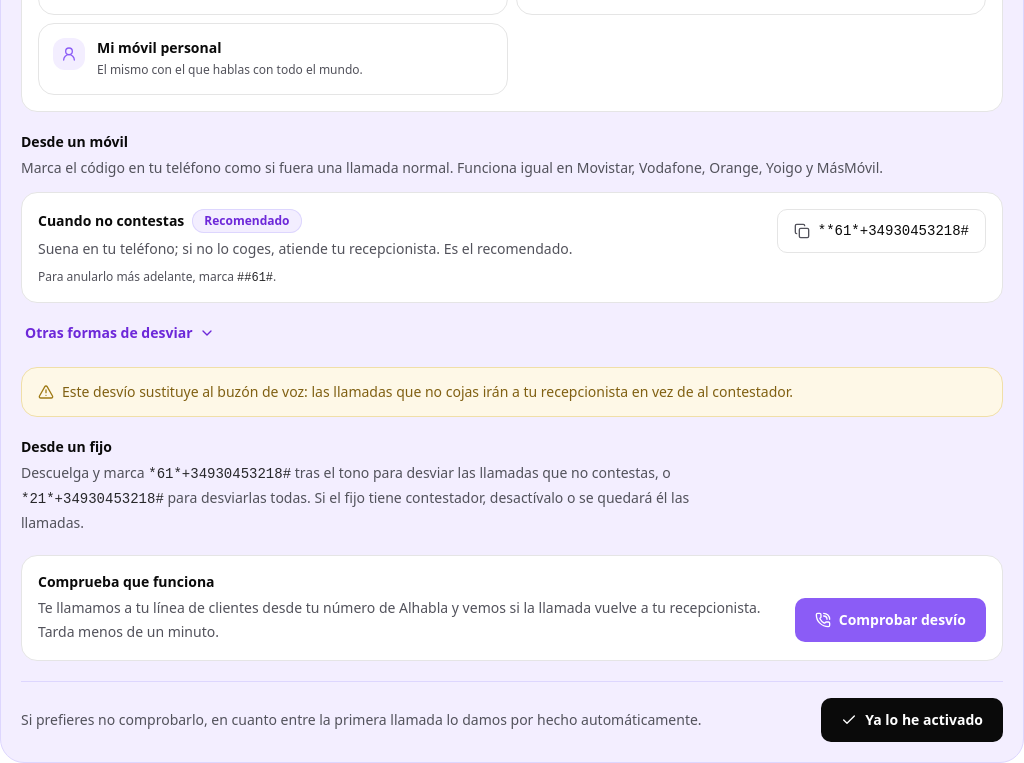
CallForwardingCard · «Comprobar desvío» › un rechazo sin código conocido tiene un texto genérico
This screenshot has width=1024, height=763.
(page scrolled)
Click the button "Comprobar desvío".
click(890, 620)  # box [795,598,986,642]
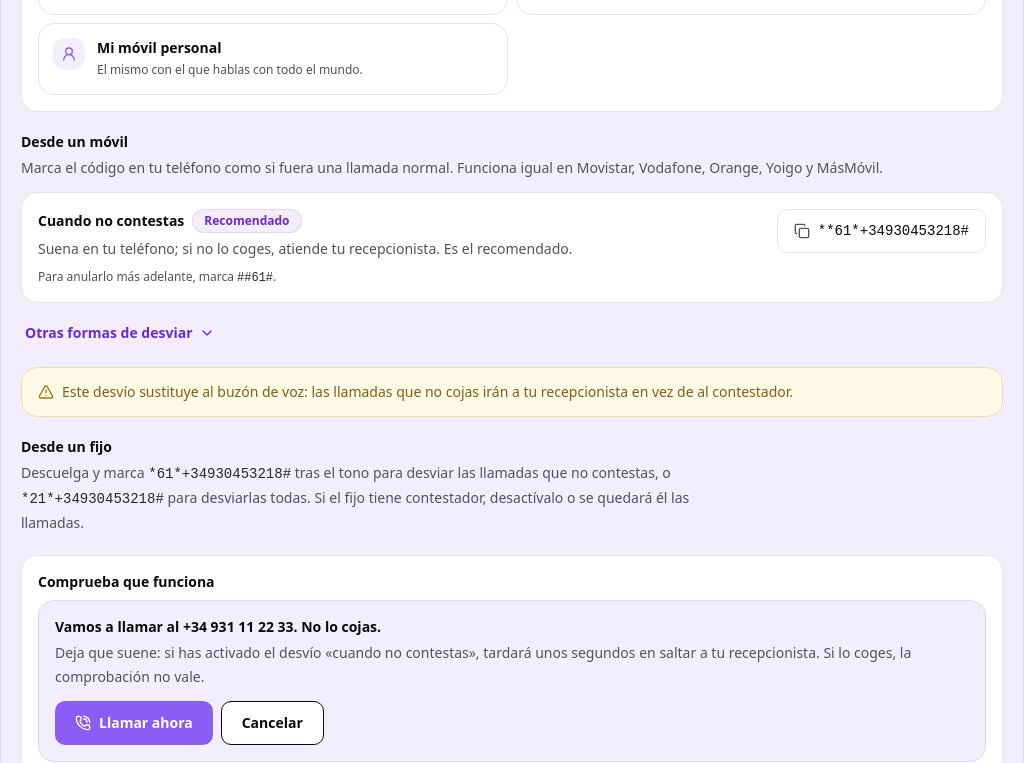
Click the button "Llamar ahora".
click(134, 723)  # box [55,701,213,745]
(page scrolled)
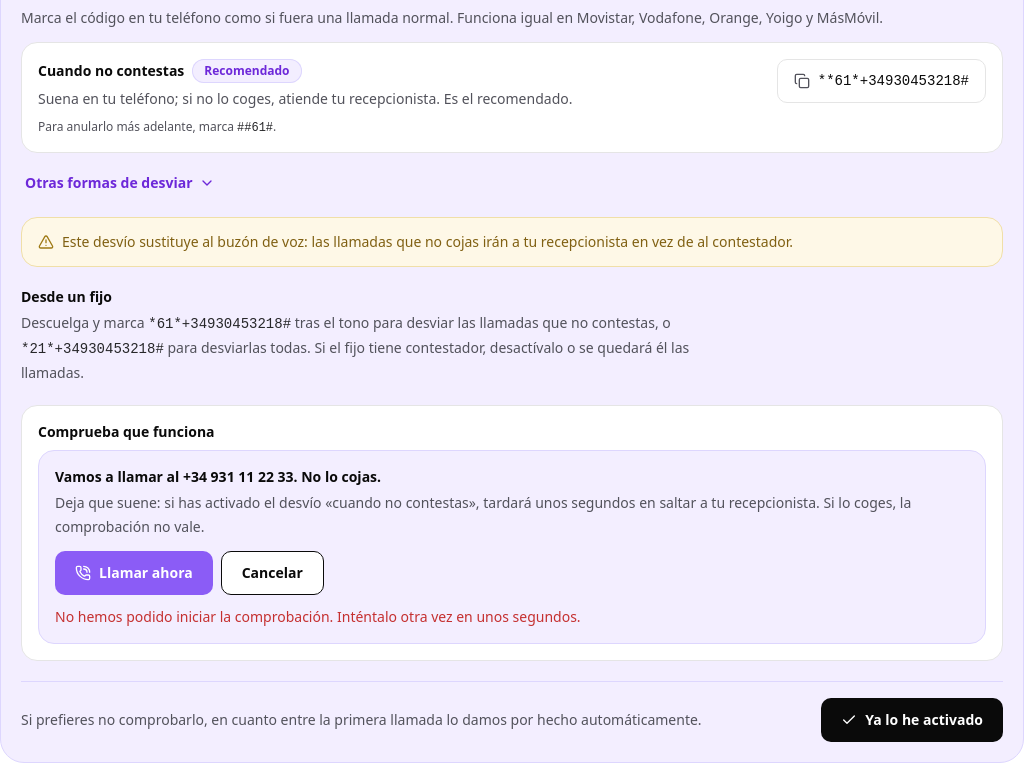
expect the message shows "No hemos podido iniciar la comprobación": met, box [55,607,581,626]
